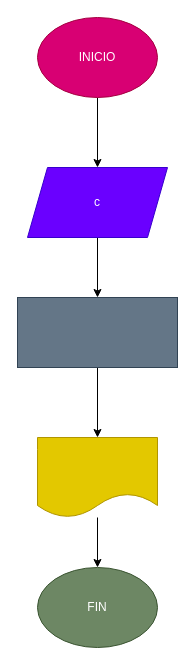
Some shapes in this 195 by 665 pixel diagram are drawn without their labels. Each missing label, with the box of its shape:
k, f: (36, 436, 158, 518)
k= c+273.15 f= c*1.8+32: (16, 296, 178, 368)
